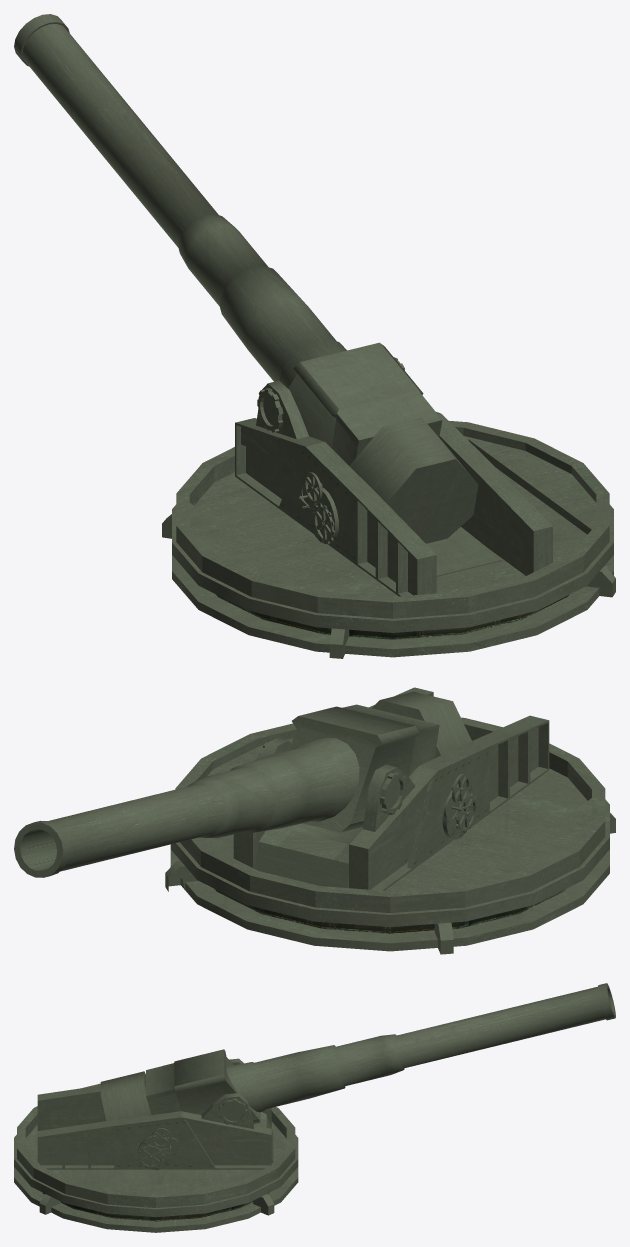
Rendered from artillery.FBX.
The picture shows the model from 3 angles, top to bottom: view 1: azimuth 30°, elevation 25°; view 2: azimuth 150°, elevation 25°; view 3: azimuth 270°, elevation 25°; orthographic projection. The views are drawn at different scales.
Visible parts, largest first — view 1: Cylinder003, Tube002, Box004, Box006, Cylinder004, Cylinder001, Box005, Cylinder002, Cylinder005; view 2: Cylinder003, Tube002, Box004, Cylinder001, Box006, Box005, Cylinder004, Cylinder002, Cylinder005, Box007, Object001, Cylinder006 (+2 smaller); view 3: Tube002, Box004, Cylinder003, Box006, Cylinder001, Cylinder004, Cylinder002, Cylinder005, Cylinder006, Tube004.
Part boxes in pixels (left/top/right/bottom): Cylinder003: left=172, top=421, right=613, bottom=632; Tube002: left=14, top=14, right=346, bottom=388; Box004: left=235, top=361, right=552, bottom=596; Box006: left=288, top=342, right=442, bottom=465; Cylinder004: left=349, top=417, right=478, bottom=543; Cylinder001: left=172, top=555, right=613, bottom=657; Box005: left=426, top=527, right=502, bottom=576; Cylinder002: left=215, top=594, right=570, bottom=639; Cylinder005: left=257, top=357, right=404, bottom=432; Cylinder003: left=170, top=717, right=609, bottom=927; Tube002: left=14, top=738, right=359, bottom=877; Box004: left=233, top=687, right=549, bottom=890; Cylinder001: left=170, top=849, right=609, bottom=951; Box006: left=289, top=704, right=439, bottom=832; Box005: left=254, top=823, right=362, bottom=887; Cylinder004: left=372, top=691, right=471, bottom=758; Cylinder002: left=214, top=889, right=565, bottom=933; Cylinder005: left=257, top=740, right=405, bottom=815; Box007: left=165, top=861, right=198, bottom=891; Object001: left=434, top=922, right=453, bottom=954; Cylinder006: left=442, top=783, right=475, bottom=839; Tube002: left=226, top=983, right=615, bottom=1112; Box004: left=37, top=1058, right=271, bottom=1169; Cylinder003: left=14, top=1083, right=298, bottom=1217; Box006: left=146, top=1049, right=260, bottom=1123; Cylinder001: left=14, top=1167, right=298, bottom=1232; Cylinder004: left=100, top=1071, right=151, bottom=1120; Cylinder002: left=42, top=1192, right=269, bottom=1221; Cylinder005: left=219, top=1098, right=247, bottom=1125; Cylinder006: left=138, top=1135, right=175, bottom=1170; Tube004: left=138, top=1144, right=164, bottom=1168.
Size of the model in its own units: 1000 by 715 by 2086.
4 materials, 4 textured.
